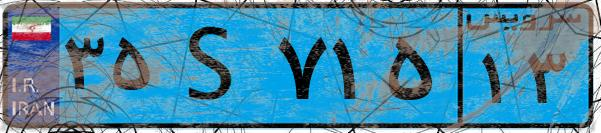1: (330, 28, 385, 110), (475, 38, 525, 113)
3: (57, 26, 110, 100), (525, 38, 570, 115)
5: (385, 28, 445, 110), (110, 28, 158, 98)
7: (270, 28, 330, 110)
S: (158, 12, 270, 120)
